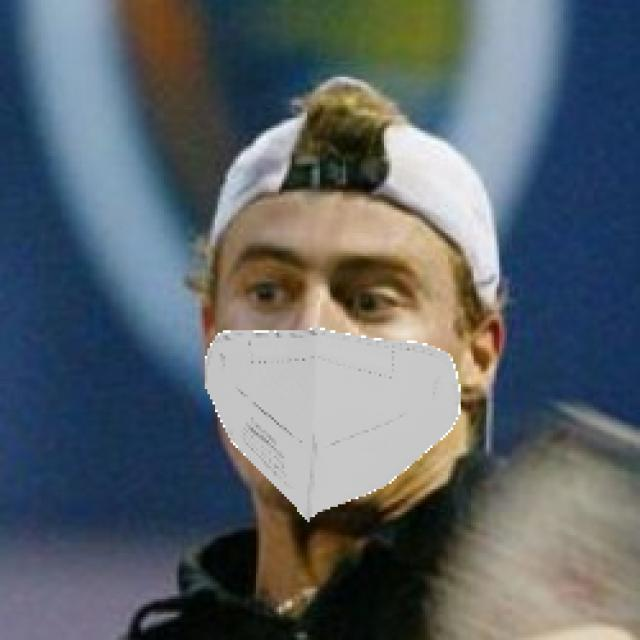mask: (185, 293, 523, 523)
